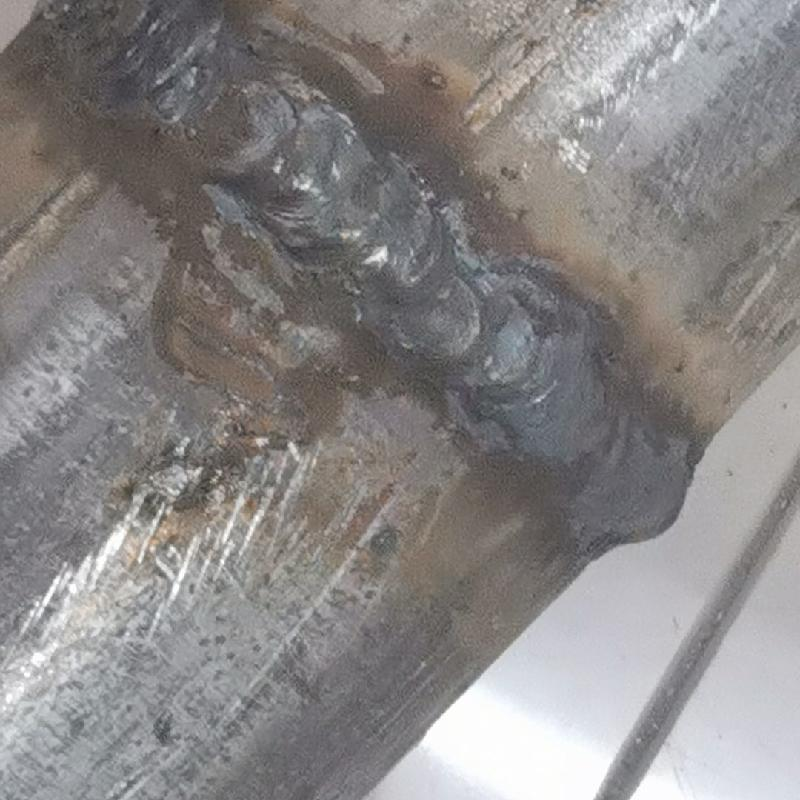good: (24, 0, 698, 550)
